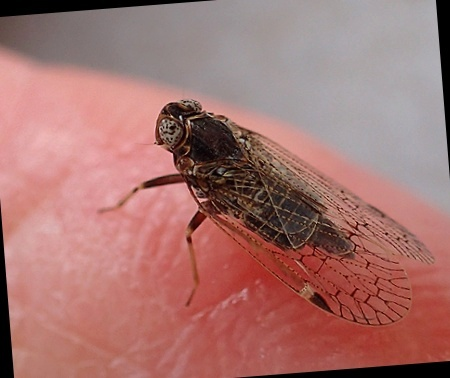Brown_hopper: (144, 82, 423, 294)
